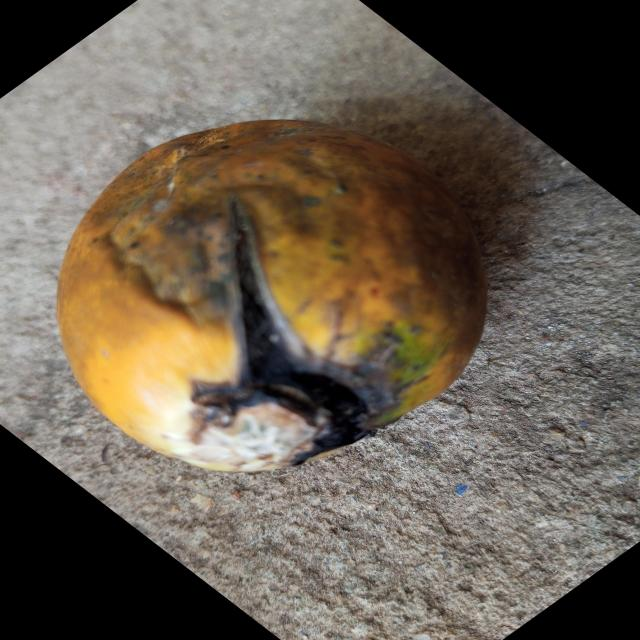damaged: (56, 120, 488, 476)
